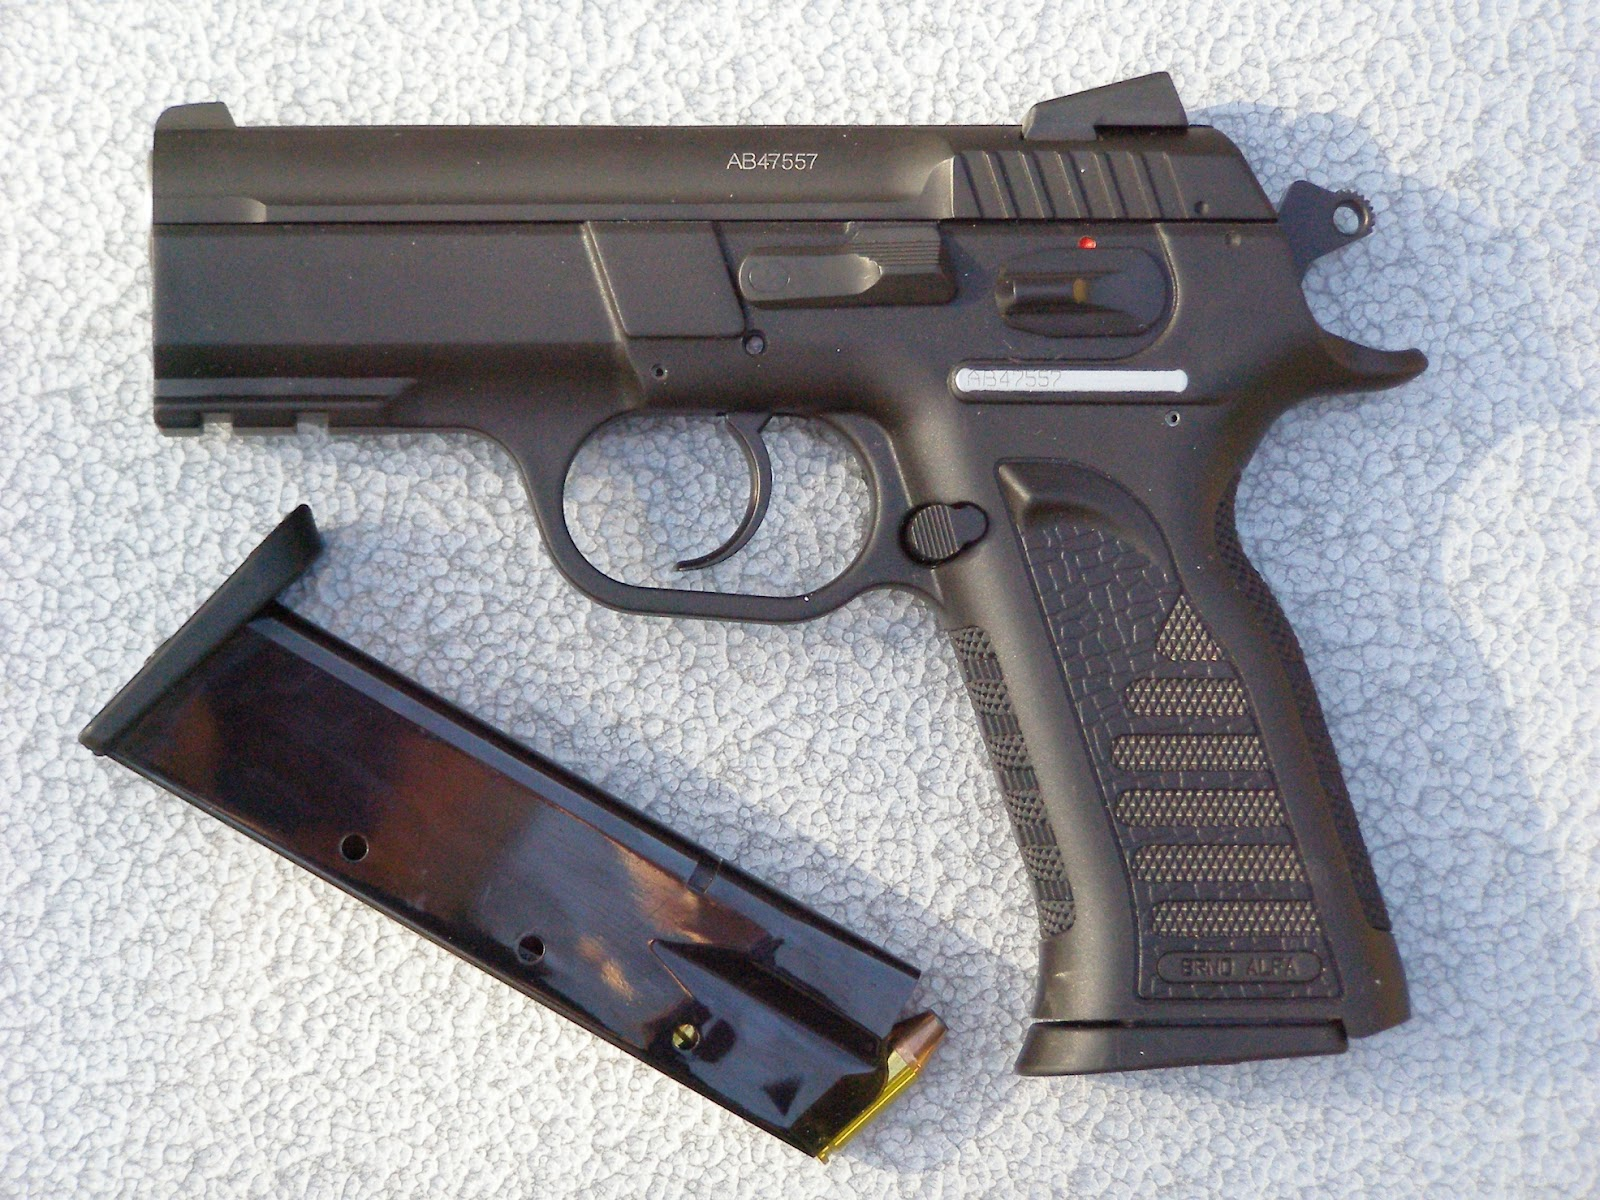gun: (135, 63, 1459, 1108)
